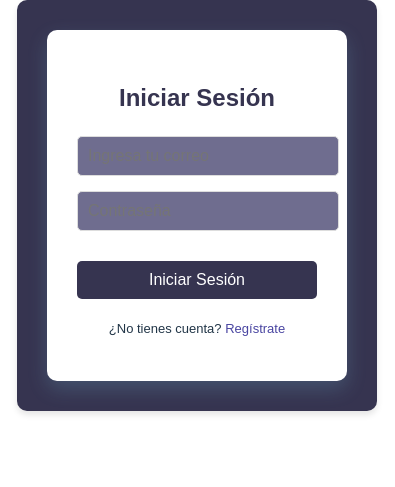
it: Credenciales incorrectas + mensaje error
This screenshot has width=395, height=487.
# son los datos que se van a ingresar
Type "quispeaguilar.bel3n@gmail" into the field with placeholder "Ingresa tu correo" at (208, 156), box [77, 136, 339, 176]
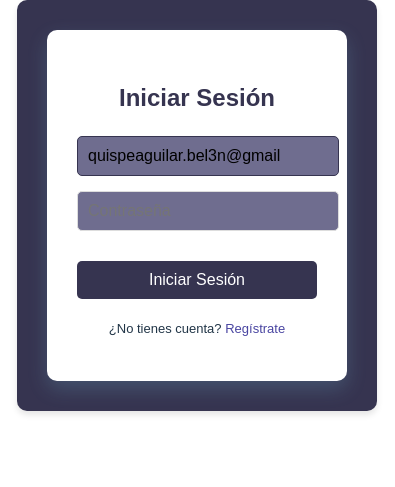
Type "soyaye" into the password field with placeholder "Contraseña" at (208, 211), box [77, 191, 339, 231]
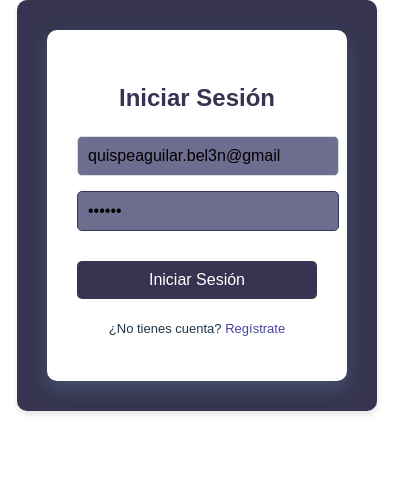
Click the button "Iniciar Sesión" at (197, 280), box [77, 261, 317, 299]
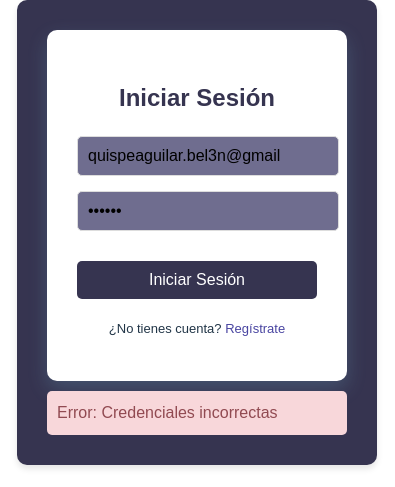
Check: the text "Error: Credenciales incorrectas" is shown, box [47, 391, 347, 435]
